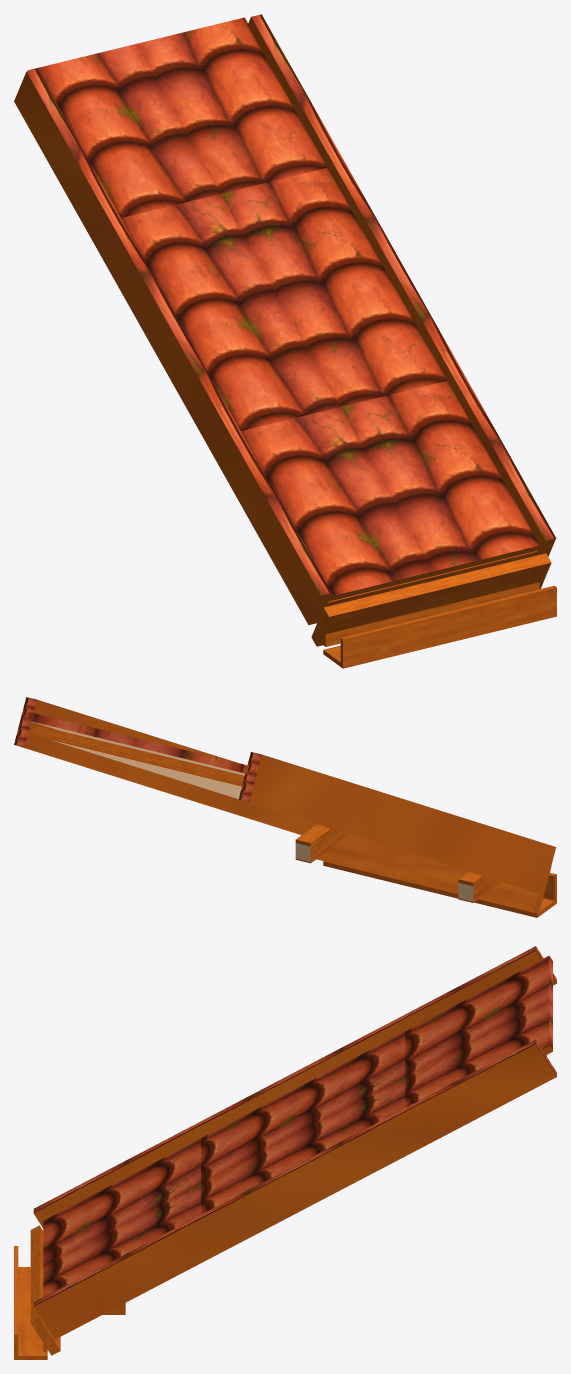
The model's file is Roof_EdgePanel_1m.fbx.
The picture shows the model from 3 angles, top to bottom: view 1: azimuth 30°, elevation 25°; view 2: azimuth 150°, elevation 25°; view 3: azimuth 270°, elevation 25°; orthographic projection. The views are drawn at different scales.
Parts seen in each view (by area): view 1: Roof_EdgePanel_1m; view 2: Roof_EdgePanel_1m; view 3: Roof_EdgePanel_1m.
Part boxes in pixels (x1,y1,x2,y2): Roof_EdgePanel_1m: (14, 14, 556, 668); Roof_EdgePanel_1m: (14, 697, 556, 917); Roof_EdgePanel_1m: (14, 946, 556, 1359).
Bounding box in the file's own units: 1.1 × 1.68 × 2.58.
